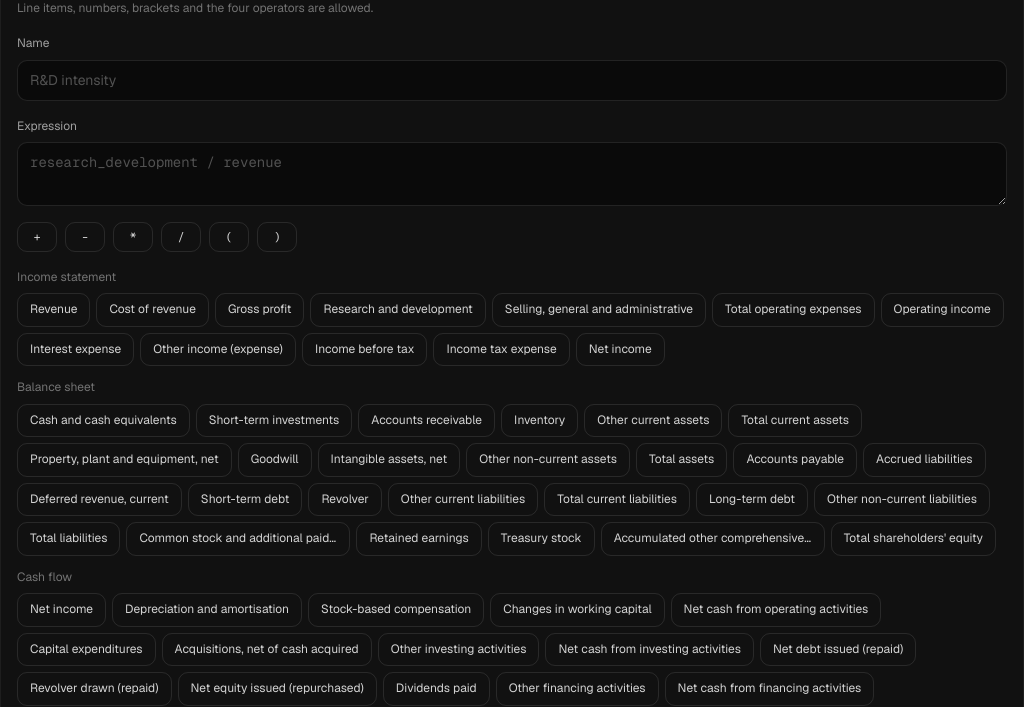
Test: the live preview › says which figures are missing rather than showing a blank
Type "revenue / treasury_stock" into the text box labelled "Expression".
click(512, 174); type("revenue / treasury_stock")  # box [17,142,1007,206]
(page scrolled)
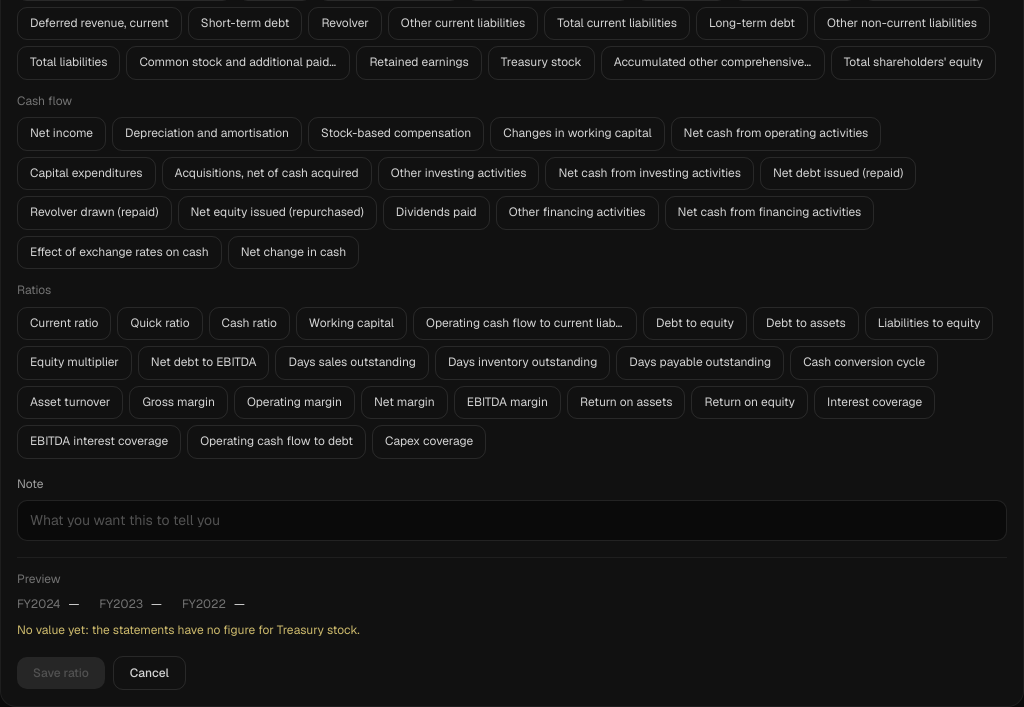
Expected: the text "—" next to "FY2024" is shown, [68,596,79,612]
